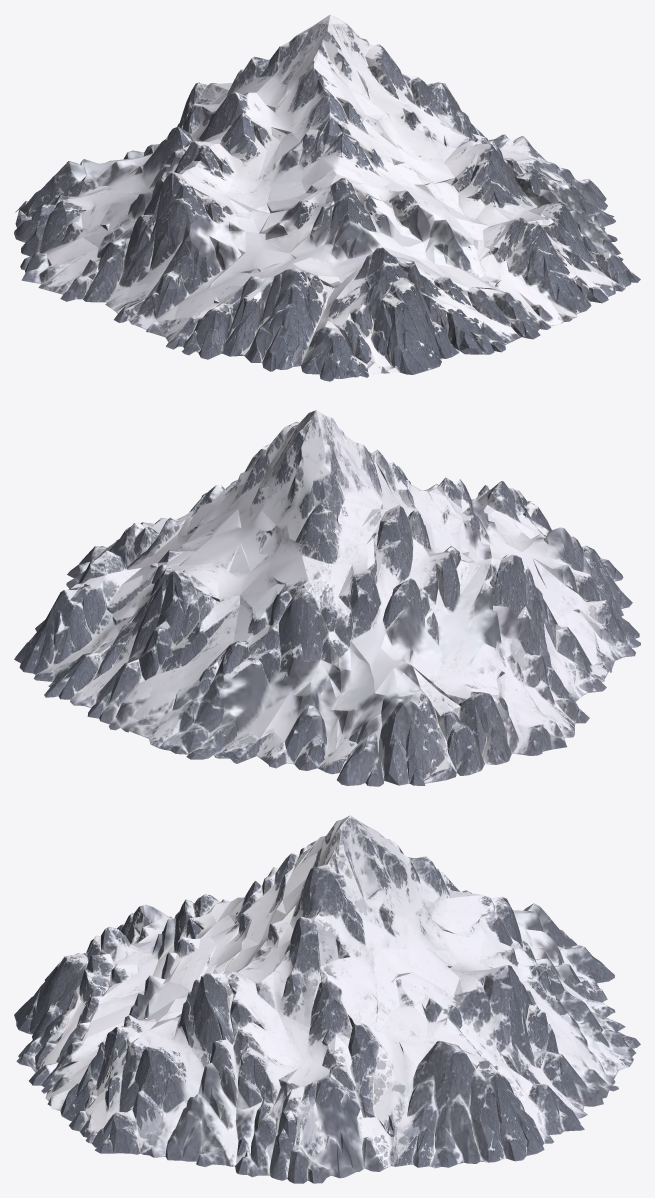
The model's file is snowy_mountain.glb.
3 renders of one model, top to bottom at view 1: azimuth 30°, elevation 25°; view 2: azimuth 150°, elevation 25°; view 3: azimuth 270°, elevation 25°, orthographic. The views are drawn at different scales.
Size of the model in its own units: 1.9 by 0.7843 by 1.86.
Materials: 1 (1 with a texture image).
